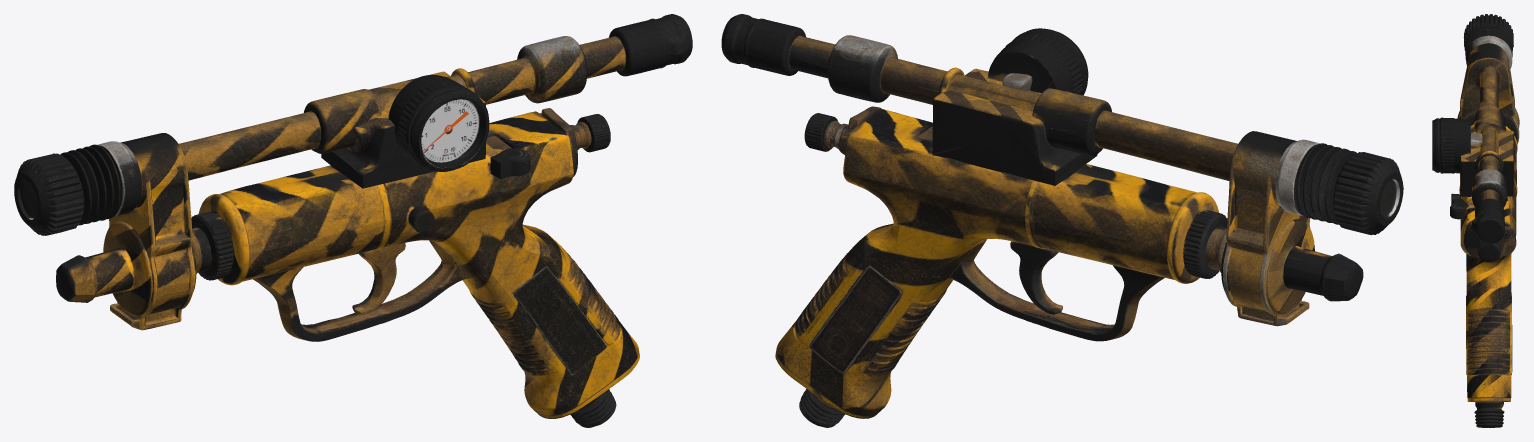
File: lancia_D1.glb
3 views of the same model, side by side, from view 1: azimuth 30°, elevation 25°; view 2: azimuth 150°, elevation 25°; view 3: azimuth 270°, elevation 25° (orthographic). The views are drawn at different scales.
Bounding box in the file's own units: 1.9 × 1.13 × 0.3504.
1 material, 1 textured.
